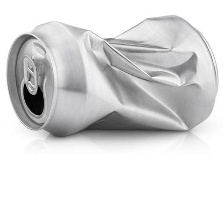can: (2, 6, 219, 146)
